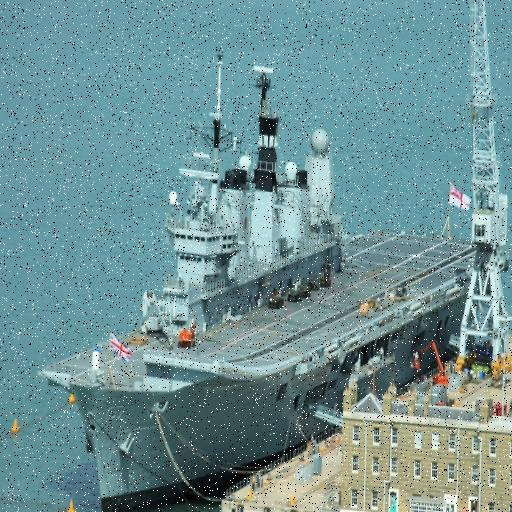Portanaves: (38, 16, 509, 512)
